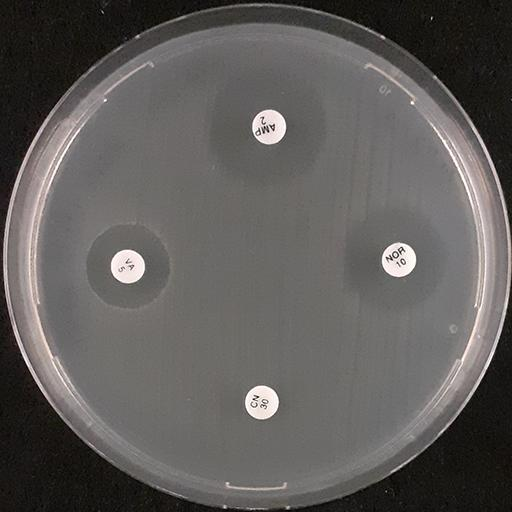disc: (110, 248, 146, 285), (244, 385, 280, 421), (251, 109, 287, 144), (381, 242, 417, 277)
